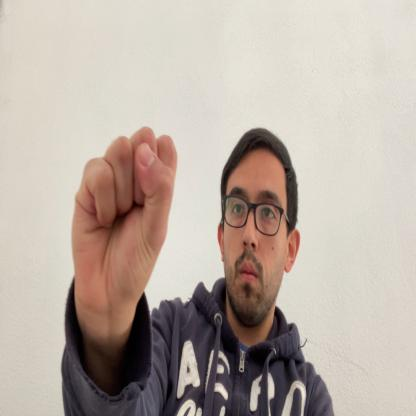S: (73, 122, 176, 307)
